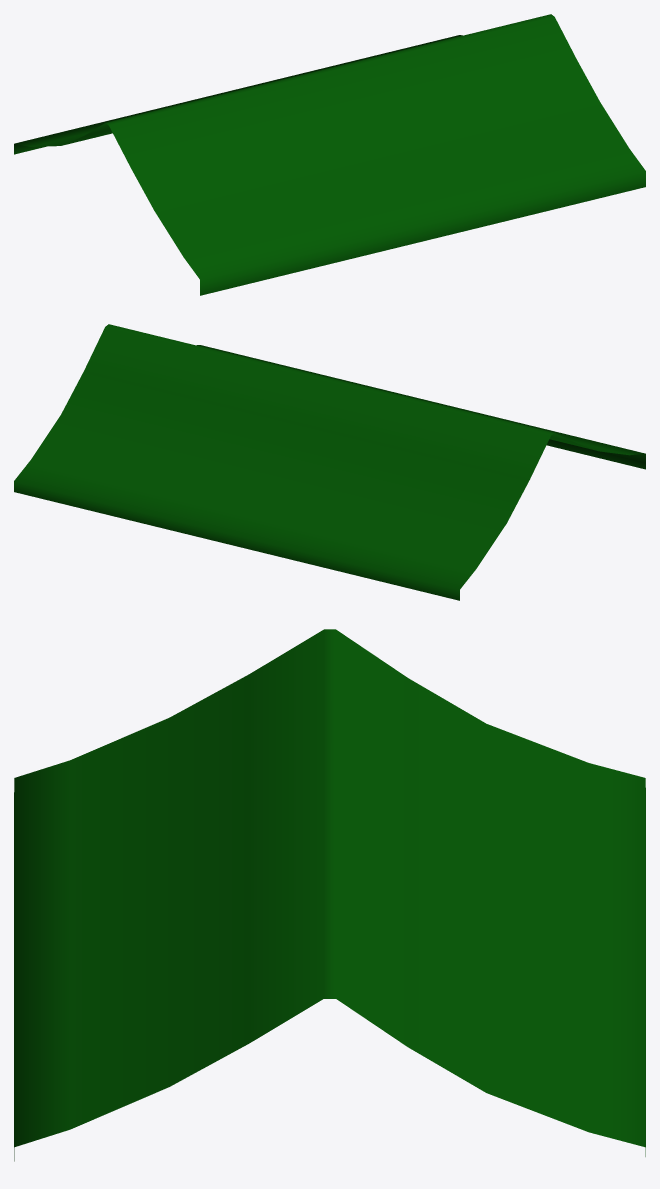
File: Structure02a.FBX
3 renders of one model, top to bottom at view 1: azimuth 30°, elevation 25°; view 2: azimuth 150°, elevation 25°; view 3: azimuth 270°, elevation 25°, orthographic. The views are drawn at different scales.
Parts seen in each view (by area): view 1: SM_structure02a_0; view 2: SM_structure02a_0; view 3: SM_structure02a_0.
Boxes of the visible parts, left/top/right/bottom form: SM_structure02a_0: left=14, top=14, right=645, bottom=295; SM_structure02a_0: left=14, top=324, right=645, bottom=600; SM_structure02a_0: left=14, top=629, right=645, bottom=1161.
Bounding box in the file's own units: 288 × 208 × 63.8.
